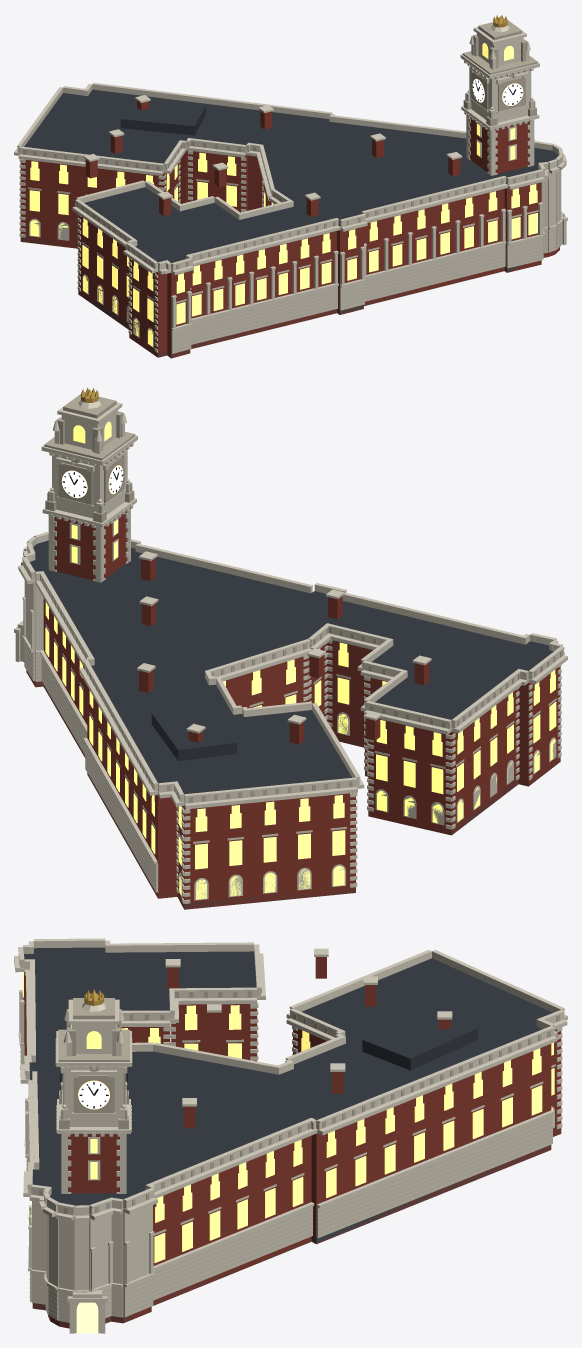
Rendered from townhall.glb.
The picture shows the model from 3 angles, top to bottom: view 1: azimuth 30°, elevation 25°; view 2: azimuth 150°, elevation 25°; view 3: azimuth 270°, elevation 25°; orthographic projection. The views are drawn at different scales.
Visible parts, largest first — view 1: PortlandStone, Slate, Brick, Emit_Window, StoneShade, Granite, Emit_Clock; view 2: Slate, Brick, PortlandStone, Emit_Window, StoneShade, Granite, Emit_Clock; view 3: PortlandStone, Slate, Brick, Emit_Window, StoneShade, Granite, Emit_Clock, Emit_Door.
Boxes of the visible parts, x1=… form: PortlandStone: x1=14, y1=25, x2=567, y2=353; Slate: x1=24, y1=89, x2=558, y2=262; Brick: x1=20, y1=100, x2=559, y2=358; Emit_Window: x1=29, y1=43, x2=537, y2=346; StoneShade: x1=23, y1=20, x2=561, y2=350; Granite: x1=21, y1=237, x2=536, y2=357; Emit_Clock: x1=472, y1=78, x2=523, y2=105; Slate: x1=29, y1=540, x2=553, y2=794; Brick: x1=26, y1=511, x2=560, y2=909; PortlandStone: x1=14, y1=400, x2=567, y2=903; Emit_Window: x1=45, y1=421, x2=556, y2=899; StoneShade: x1=24, y1=394, x2=562, y2=888; Granite: x1=27, y1=672, x2=560, y2=909; Emit_Clock: x1=61, y1=465, x2=123, y2=498; PortlandStone: x1=14, y1=938, x2=567, y2=1333; Slate: x1=24, y1=947, x2=552, y2=1205; Brick: x1=23, y1=957, x2=561, y2=1328; Emit_Window: x1=22, y1=972, x2=554, y2=1262; StoneShade: x1=18, y1=955, x2=559, y2=1318; Granite: x1=34, y1=1129, x2=560, y2=1328; Emit_Clock: x1=78, y1=1080, x2=109, y2=1109; Emit_Door: x1=76, y1=1302, x2=98, y2=1333.
Bounding box in the file's own units: 78.48 × 41 × 67.29.
